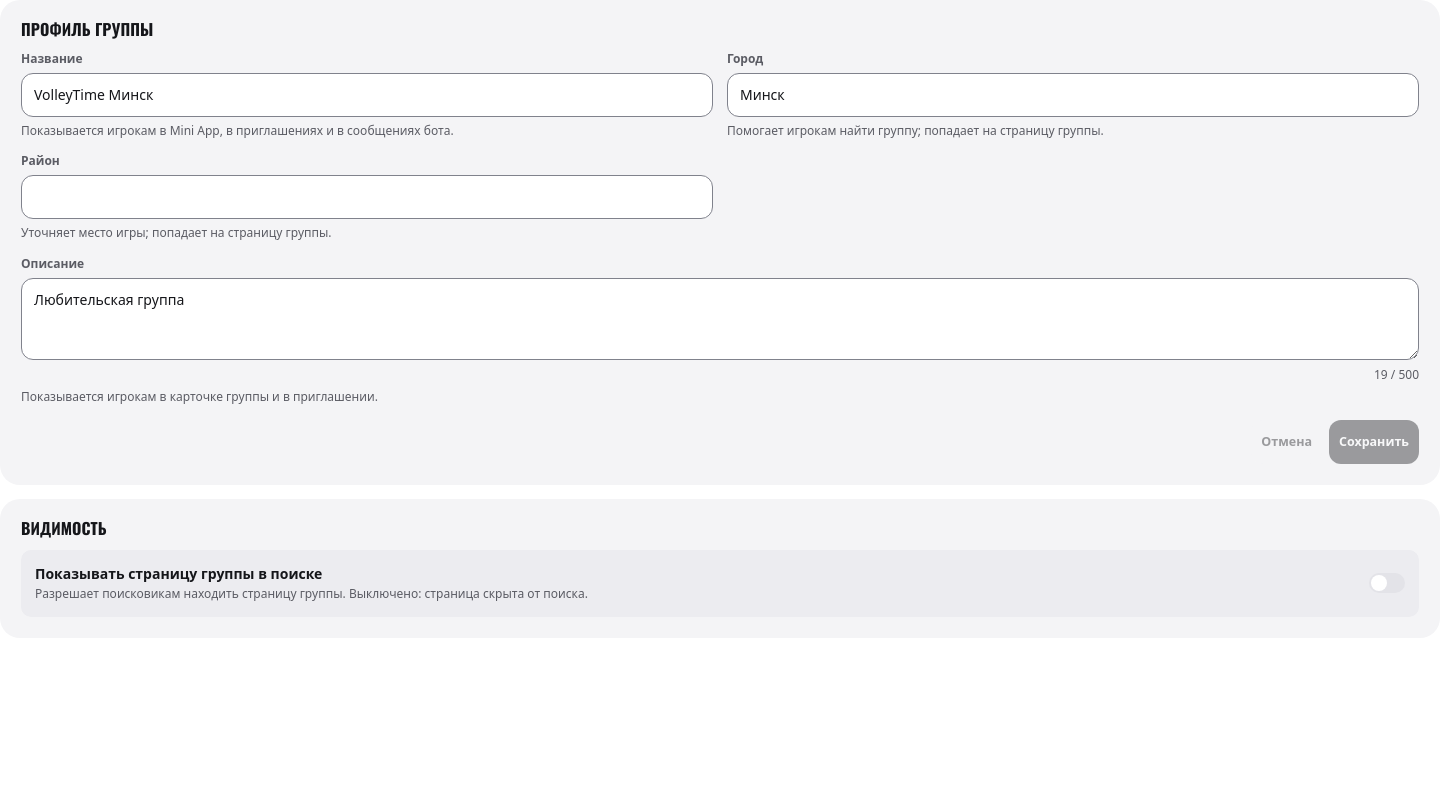
Test: SettingsProfile › shows a validation error, marks the field and sends nothing
Replace the text in the field labelled "Название" with "A": (367,95) [21, 73, 713, 117]
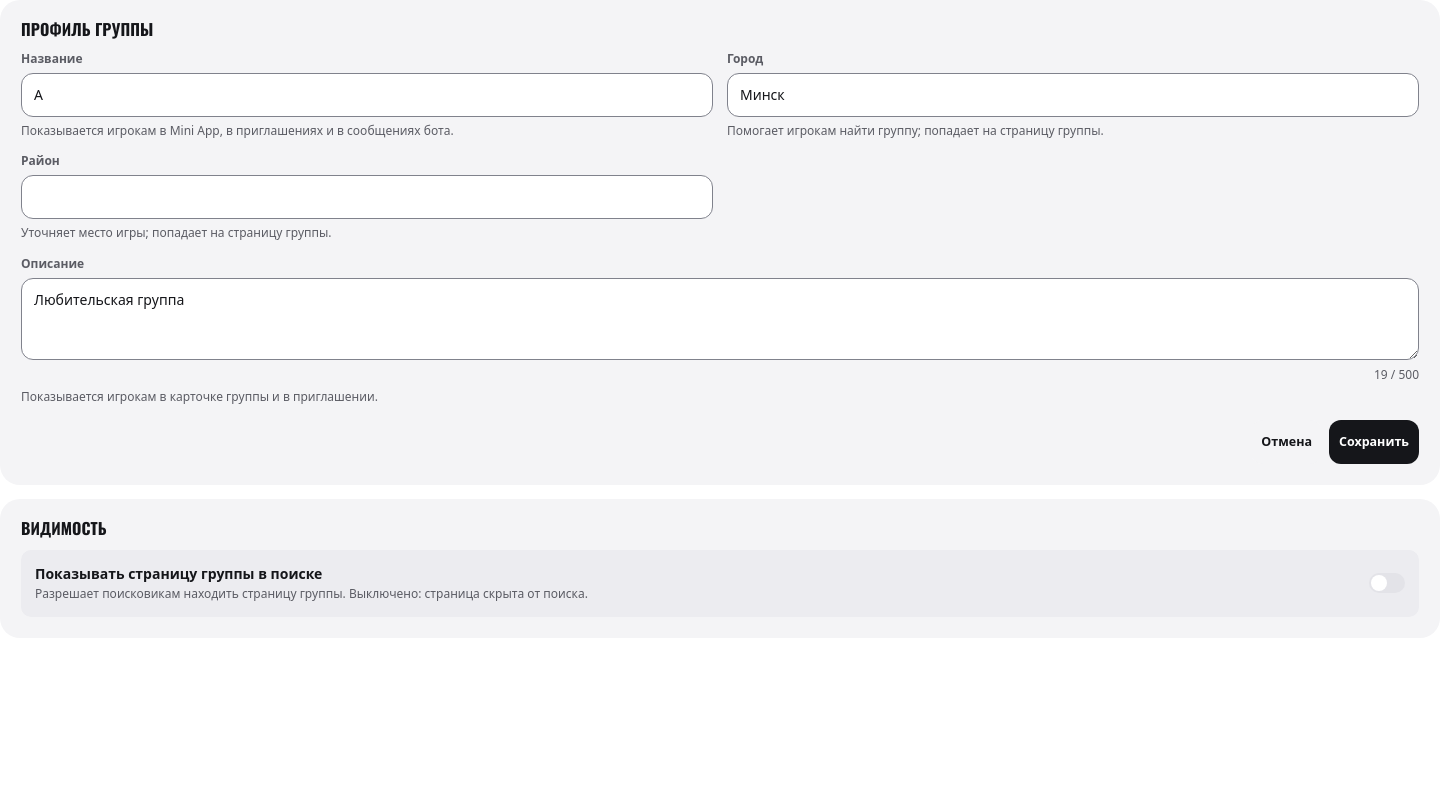
Submit the form, box [0, 0, 1439, 485]
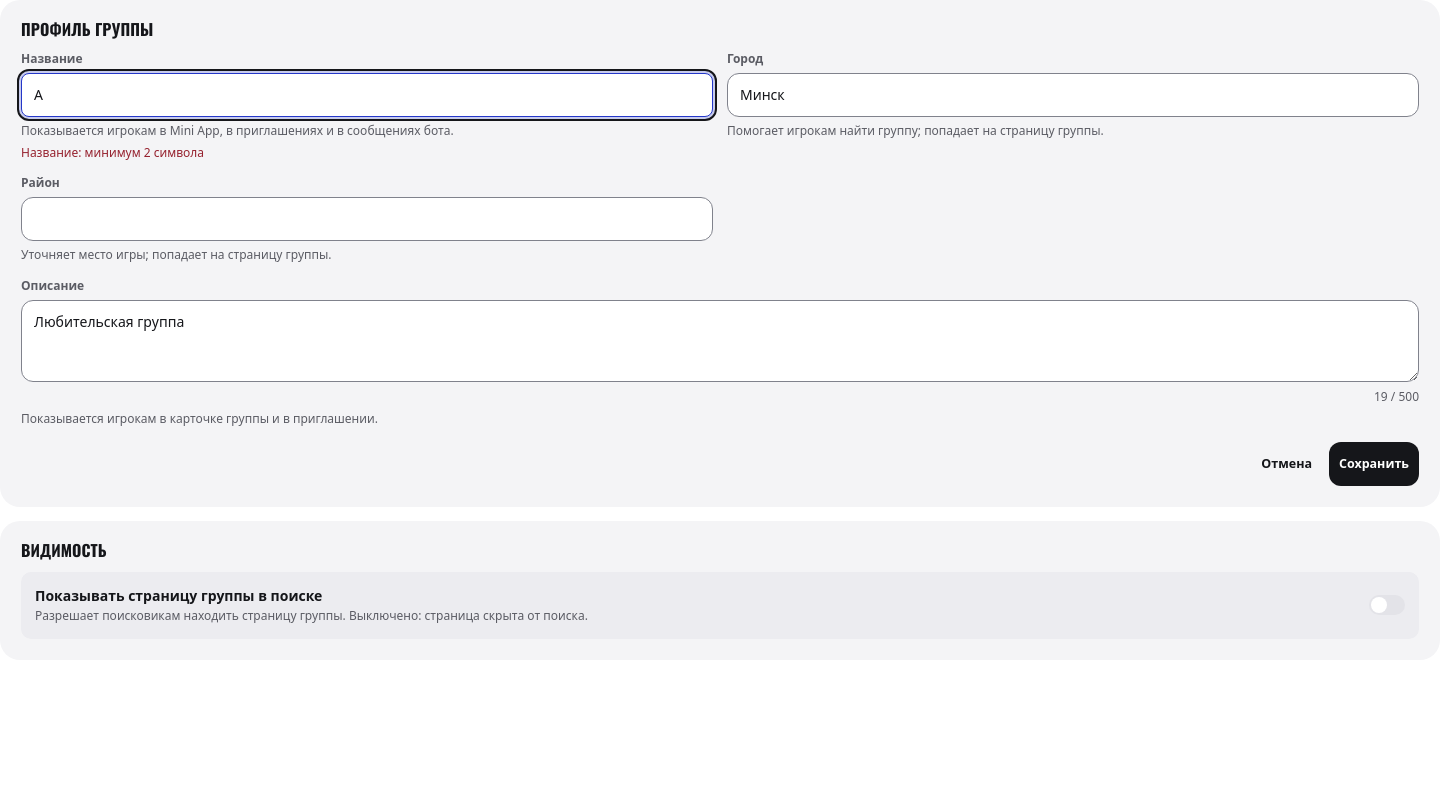
Check: the text "минимум 2 символа" is shown, box [21, 144, 204, 160]
